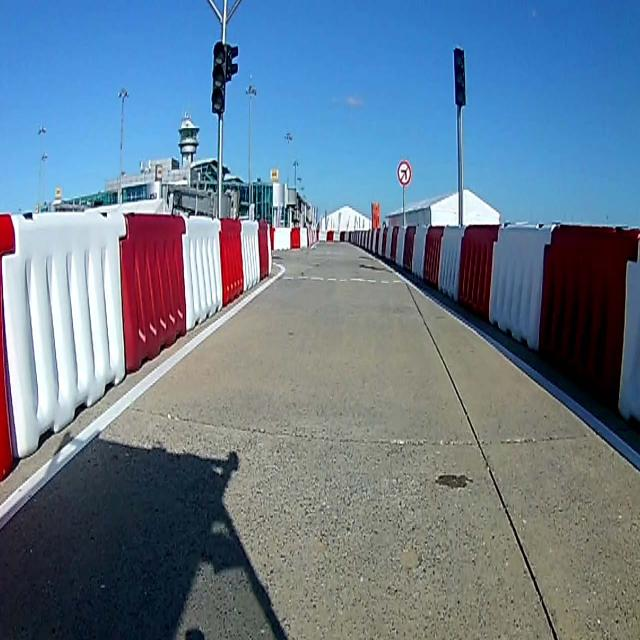soladonulmez: (396, 158, 413, 188)
